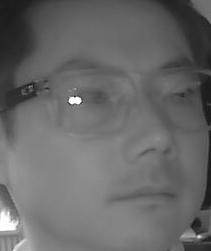glass: (45, 66, 132, 138), (146, 62, 211, 132)
mouth: (107, 183, 177, 218)
